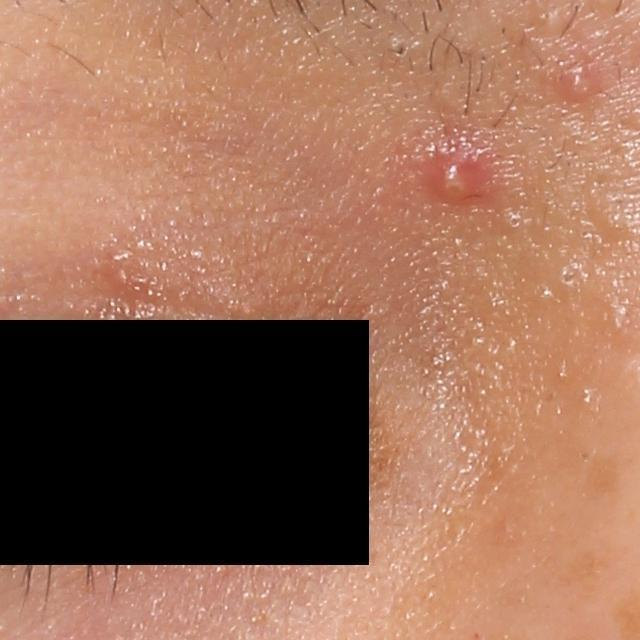comedo: (560, 266, 576, 290)
melasma: (557, 541, 619, 591), (589, 447, 628, 503)
